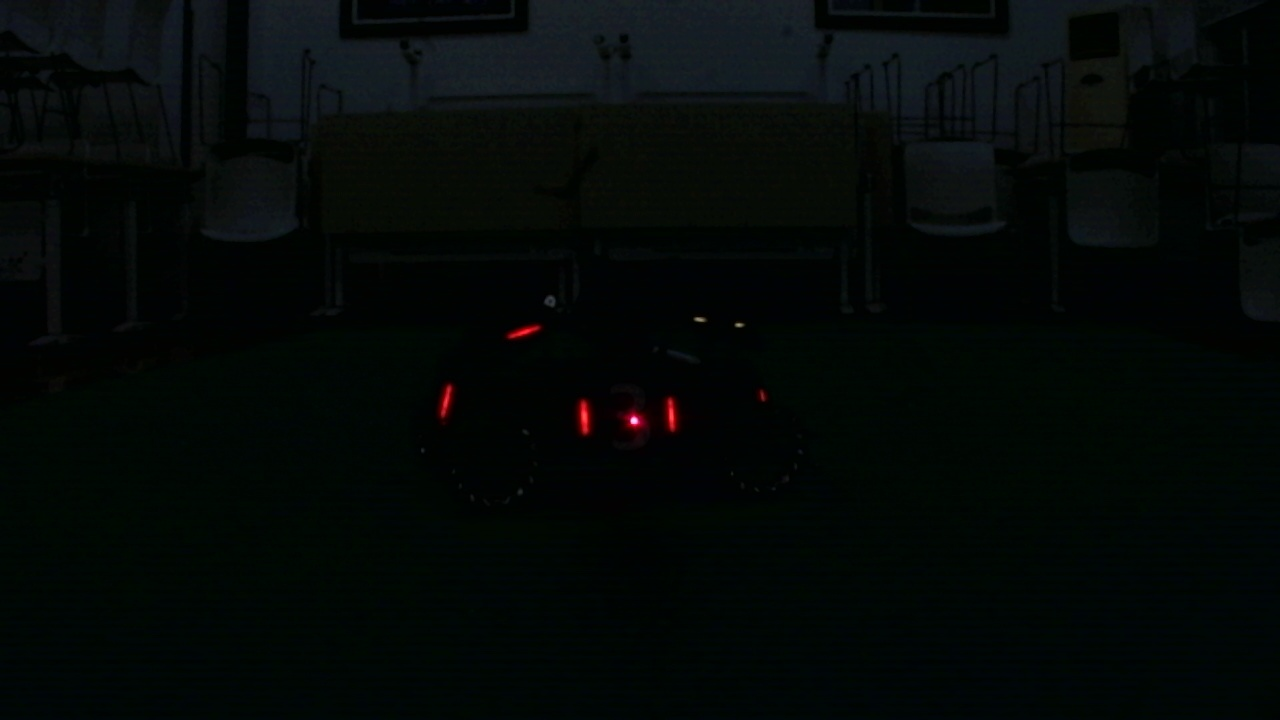lamp: (436, 380, 458, 422), (574, 398, 589, 435), (663, 395, 677, 430)
pair1: (575, 397, 682, 431)
